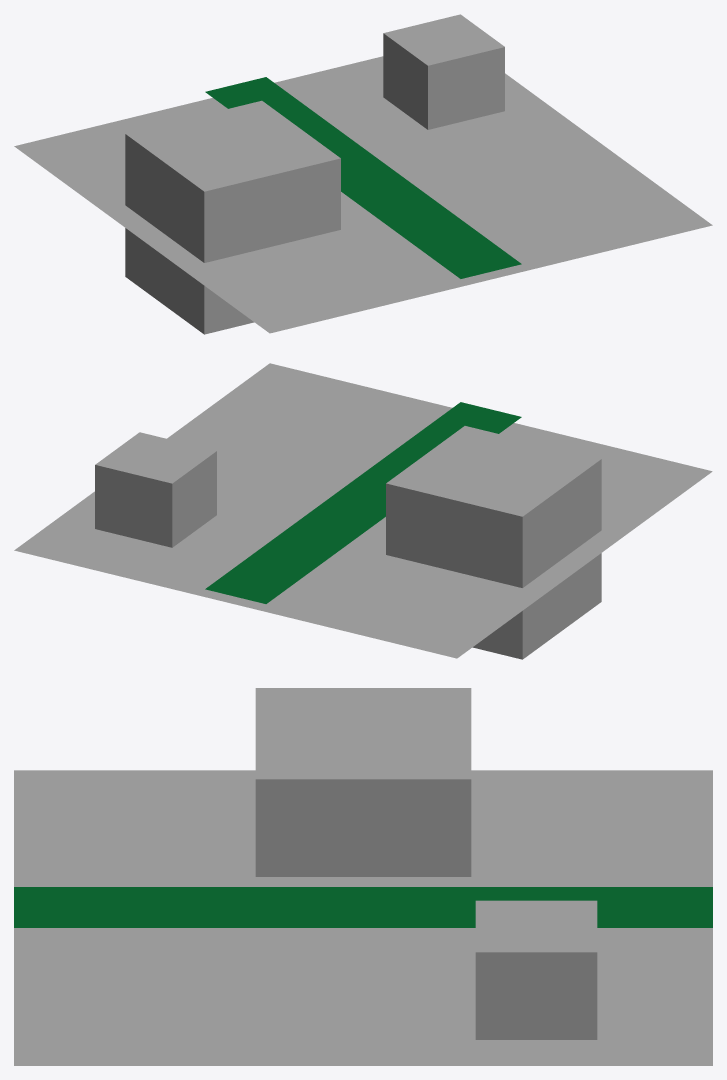
File: street_straight_001.fbx
The picture shows the model from 3 angles, top to bottom: view 1: azimuth 30°, elevation 25°; view 2: azimuth 150°, elevation 25°; view 3: azimuth 270°, elevation 25°; orthographic projection. The views are drawn at different scales.
Visible parts, largest first — view 1: pPlane19, pCube2, pPlane23, pCube3; view 2: pPlane19, pCube2, pPlane23, pCube3; view 3: pPlane19, pCube2, pPlane23, pCube3.
Part boxes in pixels (x1,y1,x2,y2): pPlane19: (14, 56, 712, 333); pCube2: (125, 100, 340, 334); pPlane23: (205, 77, 521, 278); pCube3: (383, 14, 504, 129); pPlane19: (14, 363, 712, 658); pCube2: (386, 426, 601, 659); pPlane23: (205, 402, 521, 603); pCube3: (95, 432, 216, 547); pPlane19: (14, 770, 712, 1065); pCube2: (255, 688, 471, 876); pPlane23: (14, 887, 712, 927); pCube3: (475, 900, 597, 1039).
Size of the model in its own units: 1 by 0.3083 by 1.
